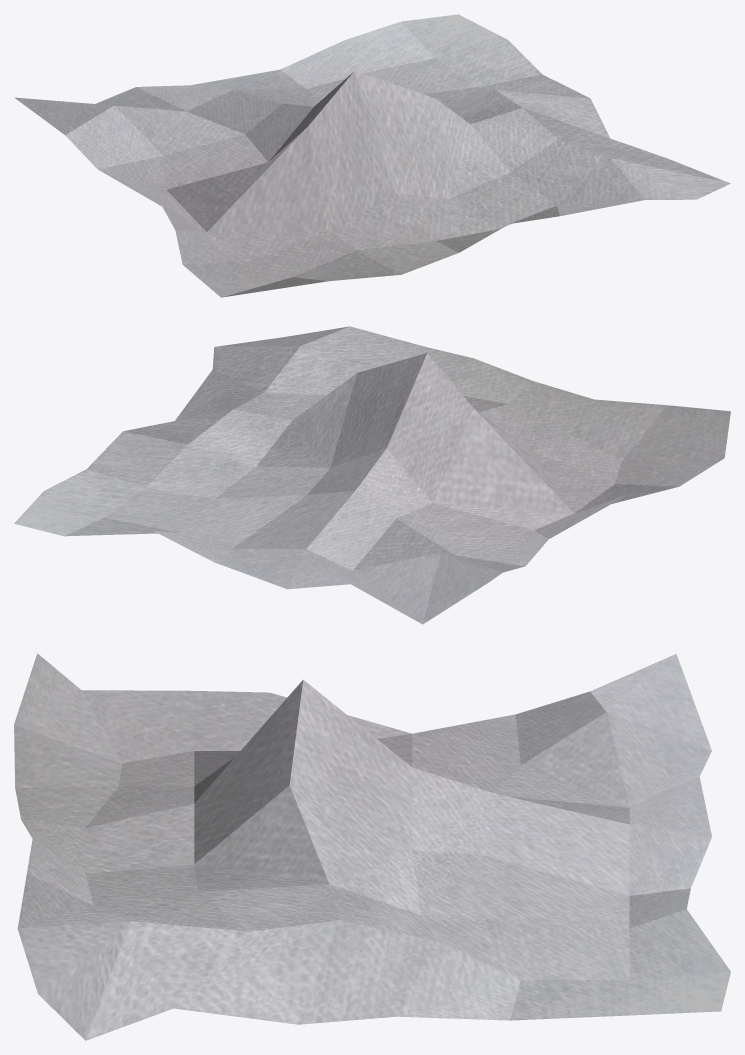
File: cloth.gltf
The picture shows the model from 3 angles, top to bottom: view 1: azimuth 30°, elevation 25°; view 2: azimuth 150°, elevation 25°; view 3: azimuth 270°, elevation 25°; orthographic projection. The views are drawn at different scales.
Visible parts, largest first — view 1: tuchtexture; view 2: tuchtexture; view 3: tuchtexture.
Part boxes in pixels (x1=…): tuchtexture: x1=14, y1=14, x2=730, y2=297; tuchtexture: x1=14, y1=326, x2=730, y2=624; tuchtexture: x1=14, y1=653, x2=730, y2=1040.
Size of the model in its own units: 1.04 by 0.2574 by 0.9414.
Materials: 1 (1 with a texture image).
